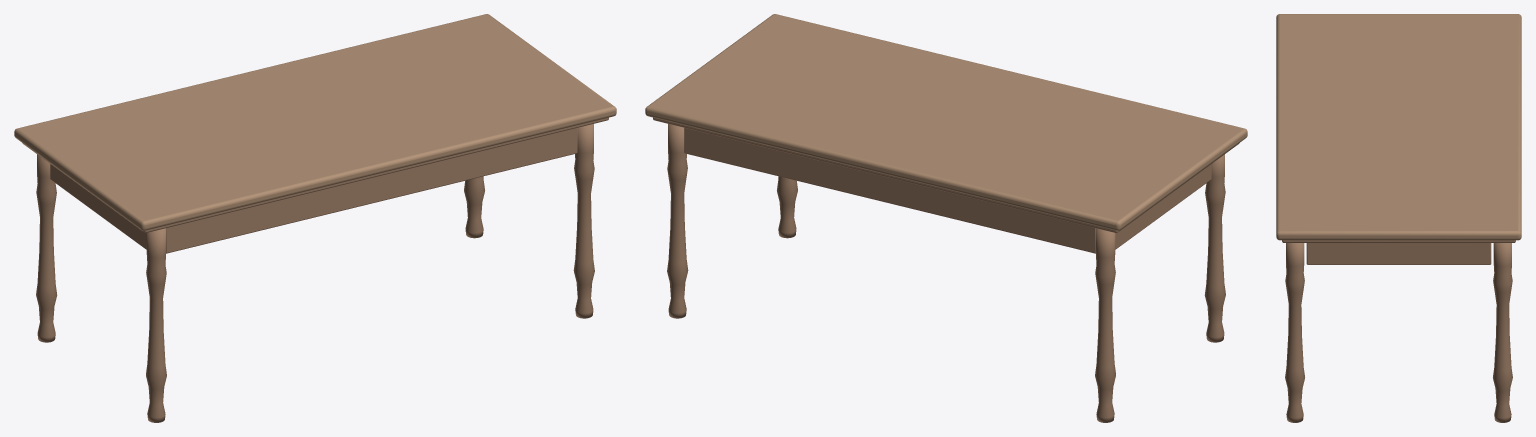
File: dn_table.fbx
3 views of the same model, side by side, from view 1: azimuth 30°, elevation 25°; view 2: azimuth 150°, elevation 25°; view 3: azimuth 270°, elevation 25° (orthographic). The views are drawn at different scales.
Visible parts, largest first — view 1: Top.003, ApronL.001, Leg.007, Leg.006, Leg.005, TopEdge, ApronS.001, Leg.004; view 2: Top.003, ApronL, Leg.005, Leg.004, Leg.007, TopEdge, ApronS.001, Leg.006; view 3: Top.003, ApronS, Leg.004, Leg.006, TopEdge.
Boxes of the visible parts, bbox=[...] form: Top.003: bbox=[14, 14, 616, 230]; ApronL.001: bbox=[166, 128, 577, 253]; Leg.007: bbox=[146, 228, 166, 422]; Leg.006: bbox=[573, 124, 594, 318]; Leg.005: bbox=[36, 154, 57, 342]; TopEdge: bbox=[22, 117, 608, 232]; ApronS.001: bbox=[50, 164, 146, 249]; Leg.004: bbox=[464, 176, 484, 238]; Top.003: bbox=[645, 14, 1247, 230]; ApronL: bbox=[684, 128, 1095, 253]; Leg.005: bbox=[1095, 228, 1115, 422]; Leg.004: bbox=[667, 124, 688, 318]; Leg.007: bbox=[1204, 154, 1225, 342]; TopEdge: bbox=[653, 117, 1239, 232]; ApronS.001: bbox=[1115, 164, 1211, 249]; Leg.006: bbox=[777, 176, 797, 238]; Top.003: bbox=[1276, 14, 1521, 240]; ApronS: bbox=[1306, 243, 1491, 264]; Leg.004: bbox=[1493, 243, 1512, 422]; Leg.006: bbox=[1285, 243, 1304, 422]; TopEdge: bbox=[1282, 240, 1515, 242].
Size of the model in its own units: 1.8 by 0.7575 by 0.85.
